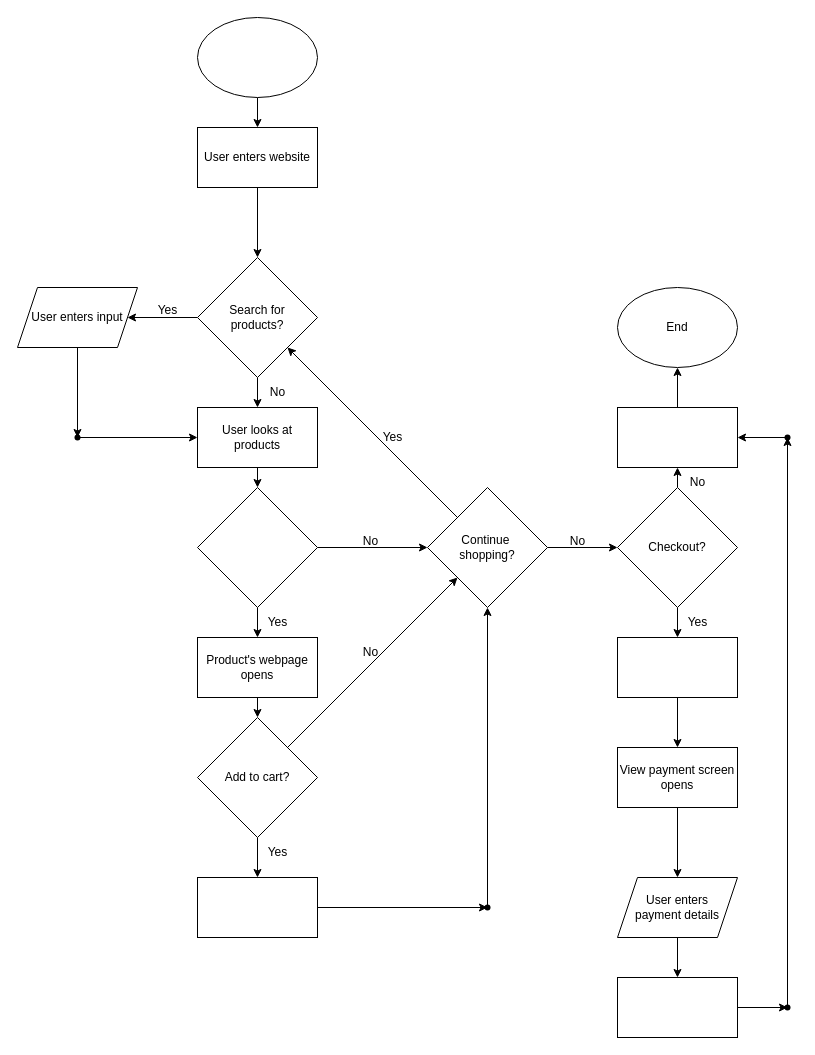
Image size: 815x1055. Some labels were removed from this diagram. The shapes that lost their labels are listed below. From the top down, each one's box as (x1, y1, x2, y2) in pixels, then its label:
(196, 16, 318, 98): Start
(616, 406, 738, 468): User leaves website
(196, 486, 318, 608): View specifc product?
(616, 636, 738, 698): View cart screen opens
(196, 876, 318, 938): Add to cart confirmation shown
(616, 976, 738, 1038): Order confirmation and email sent
